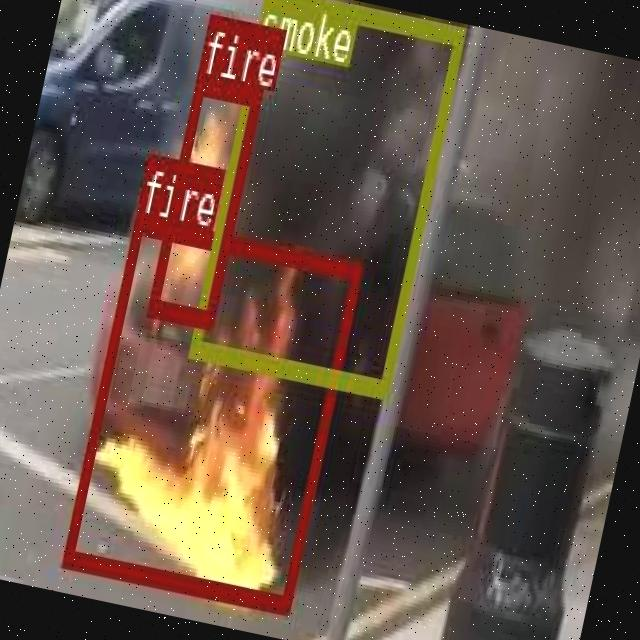fire: (61, 212, 361, 610), (147, 74, 260, 323)
smoke: (187, 0, 464, 395)
